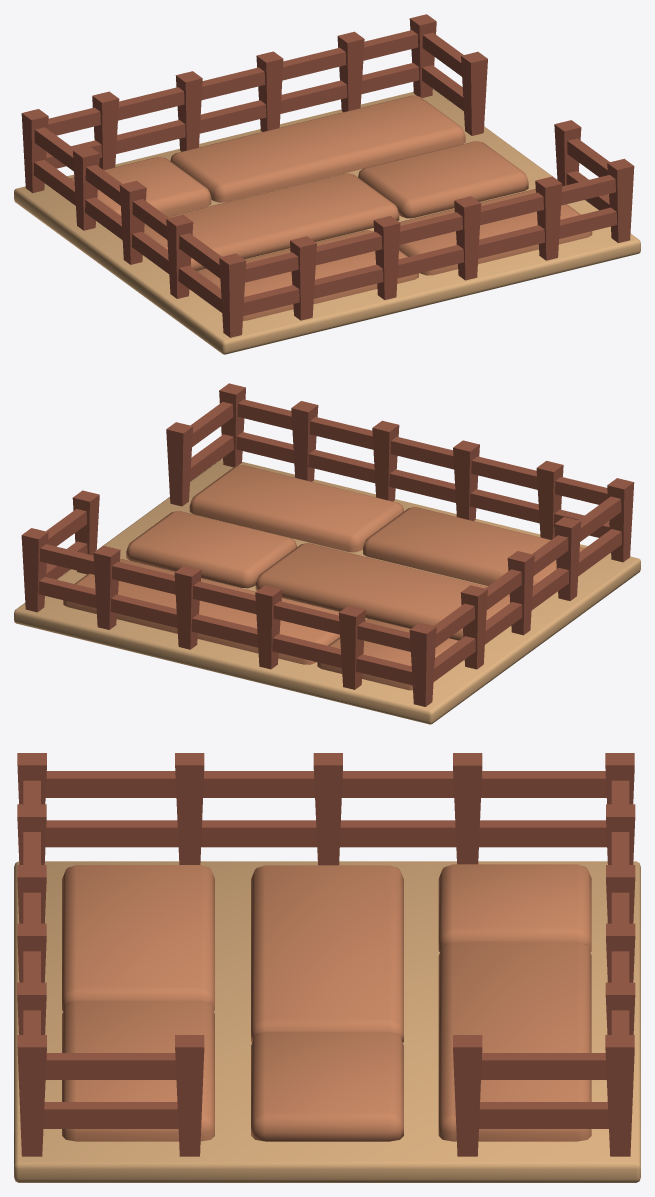
Rendered from farm_plot.dae.
3 renders of one model, top to bottom at view 1: azimuth 30°, elevation 25°; view 2: azimuth 150°, elevation 25°; view 3: azimuth 270°, elevation 25°, orthographic. The views are drawn at different scales.
Visible parts, largest first — view 1: farm_plot; view 2: farm_plot; view 3: farm_plot.
Boxes of the visible parts, x1,y1,x2,y2 form: farm_plot: (14, 14, 640, 354); farm_plot: (14, 383, 640, 724); farm_plot: (14, 753, 640, 1182).
Size of the model in its own units: 1.47 by 1.28 by 0.2997.
